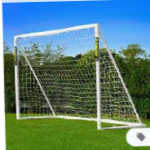goals: (9, 20, 146, 130)
